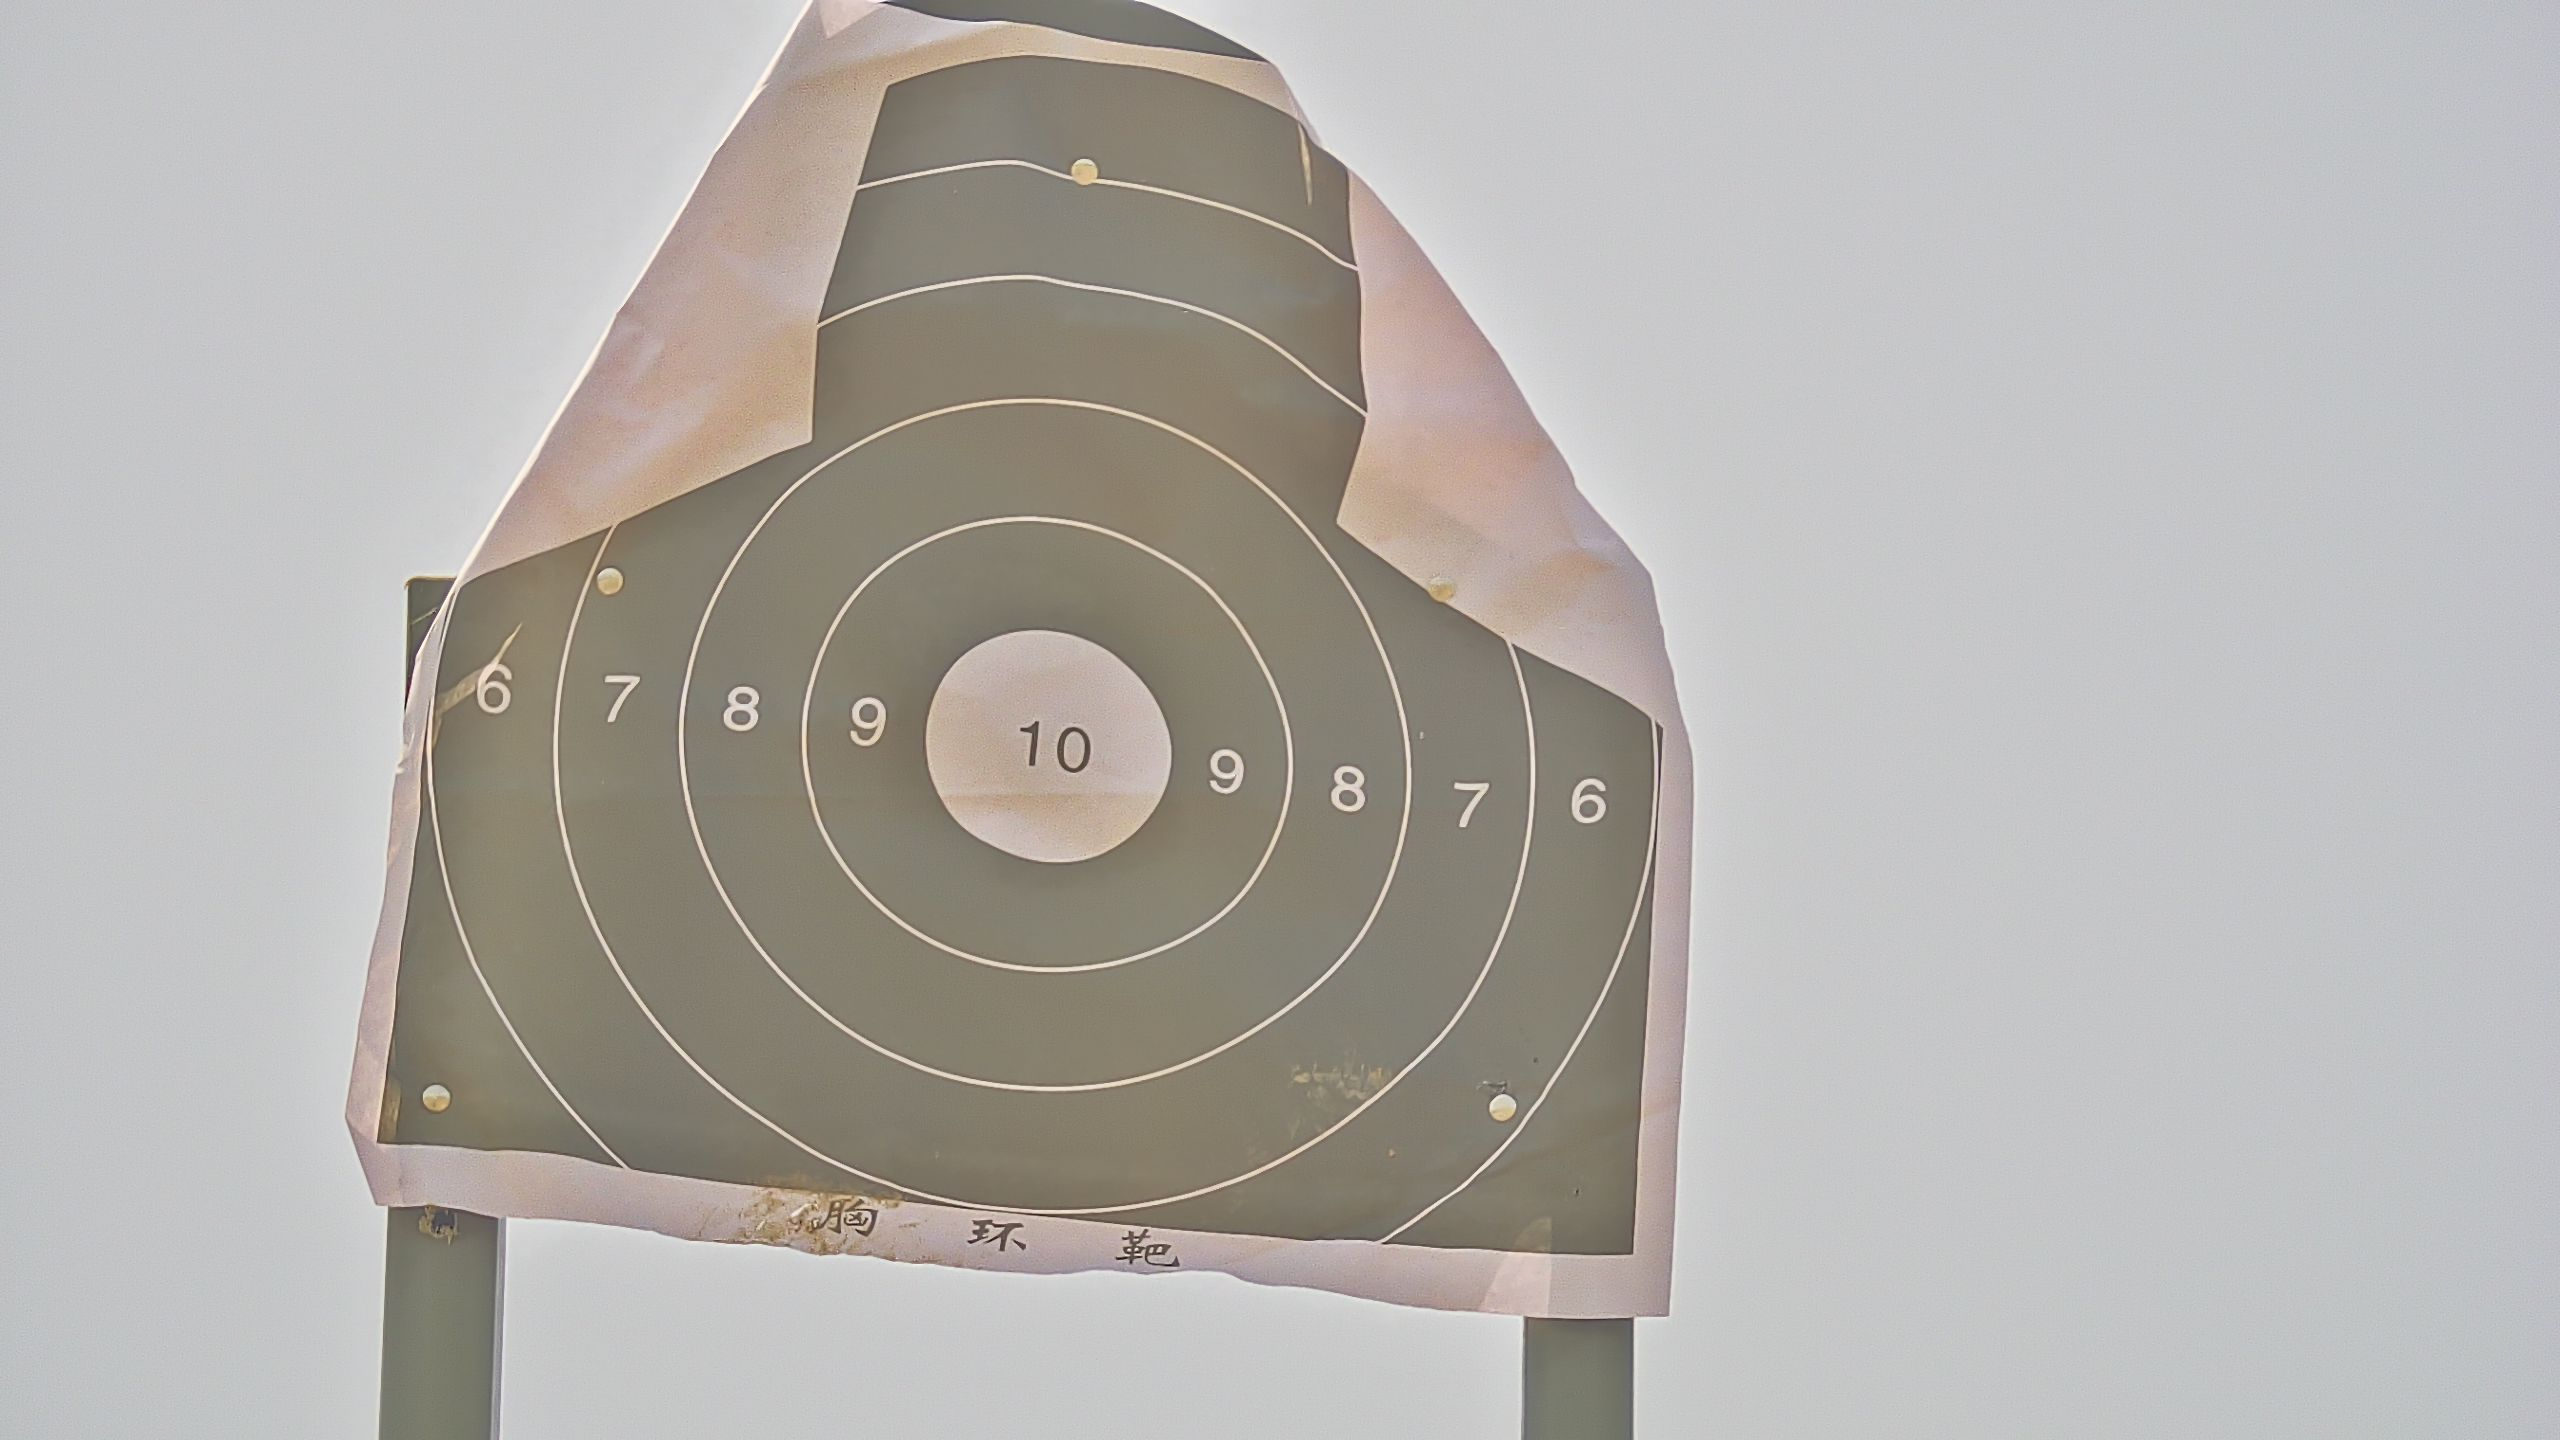kernel: (1039, 744, 1050, 749)
target: (376, 56, 1669, 1280)
ten: (925, 628, 1176, 867)
